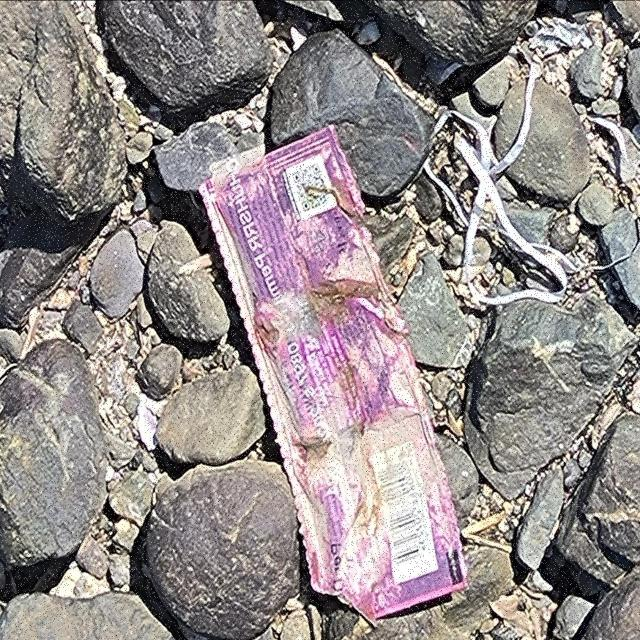plastic_waste: (198, 127, 472, 627)
